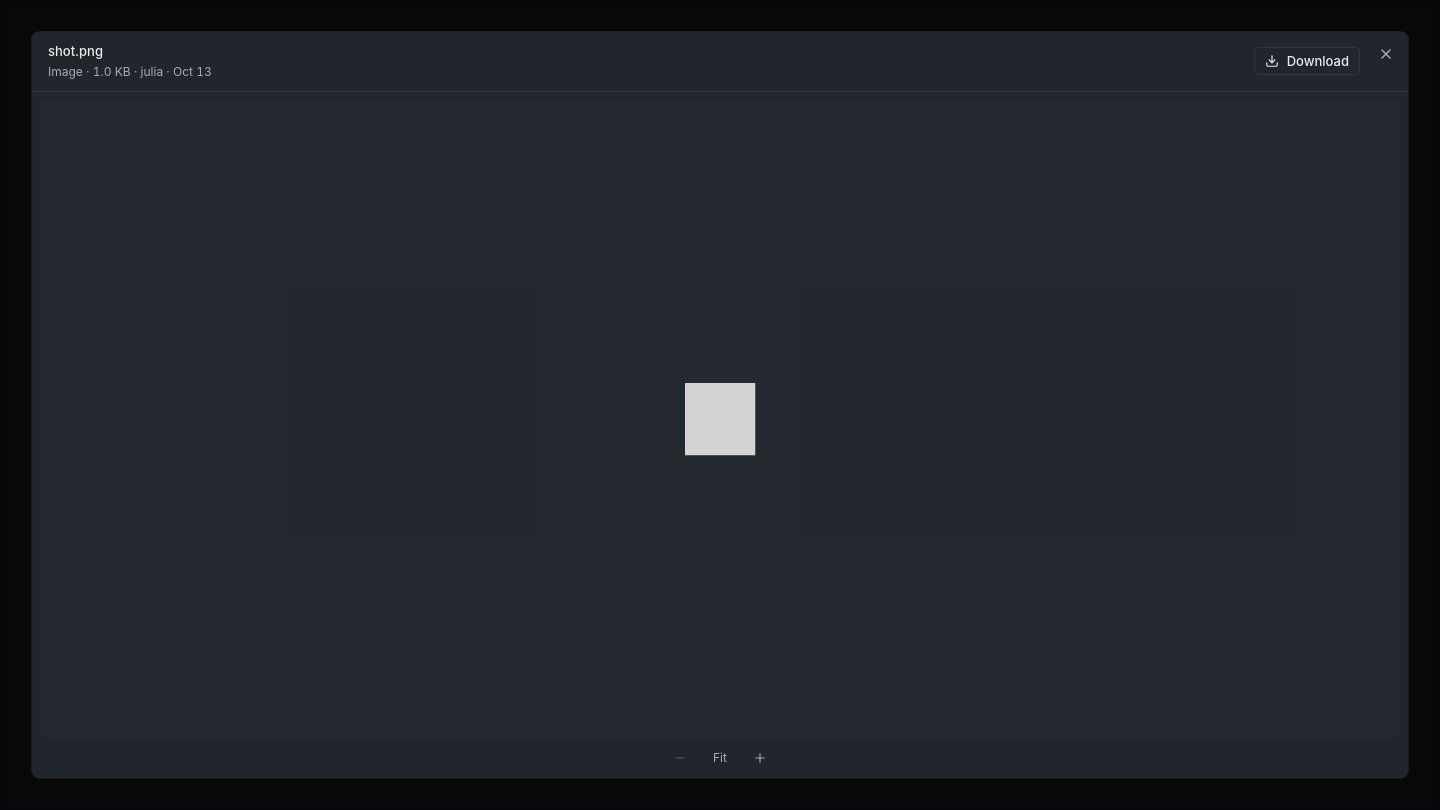
Test: the preview's right-click menu › copies the file's full link, and says so
The image size is (1440, 810).
Right-click the element with test id "zoom-frame" at (720, 419), box left=40, top=100, right=1400, bottom=738
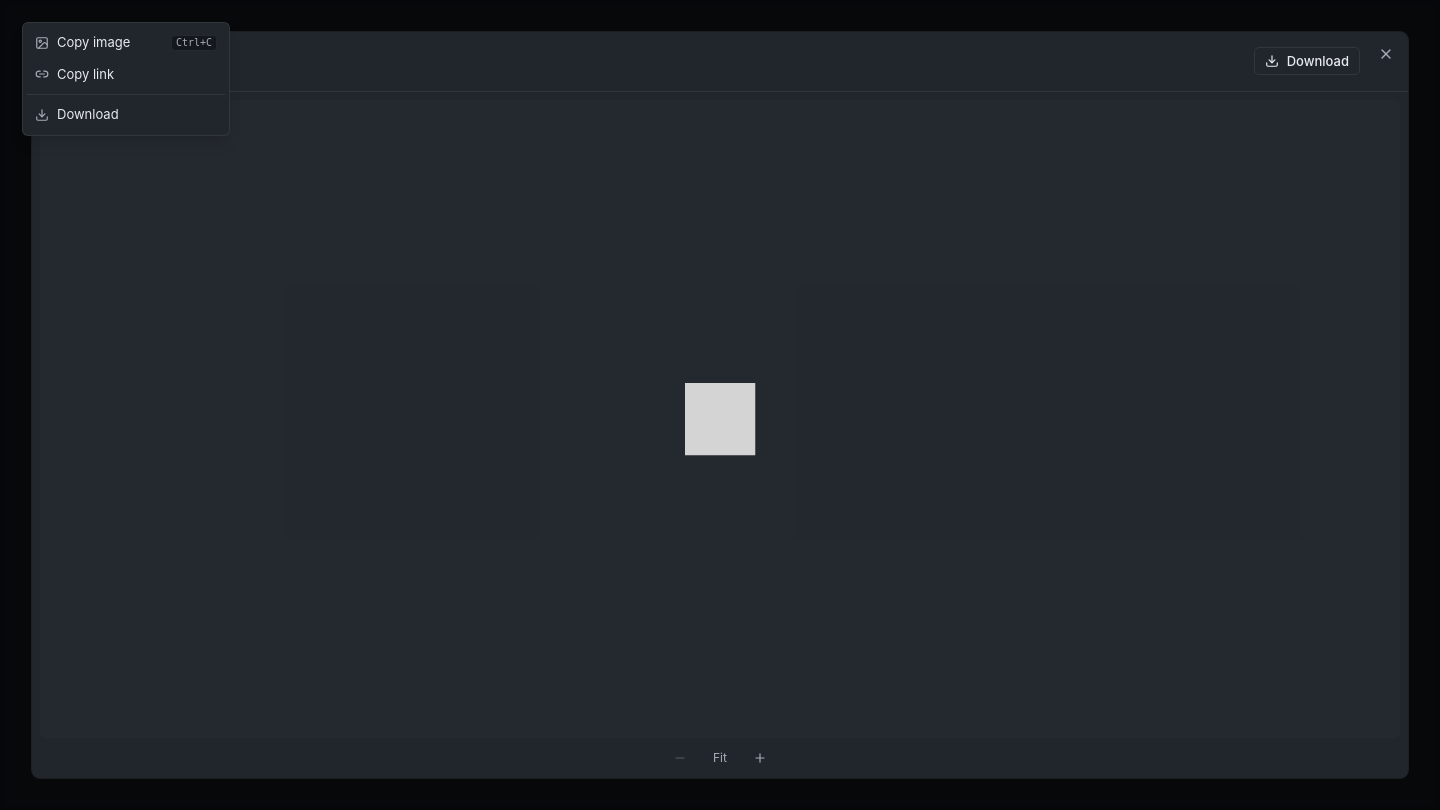
Click the menu item "Copy link" at (75, 74), box left=35, top=66, right=114, bottom=82
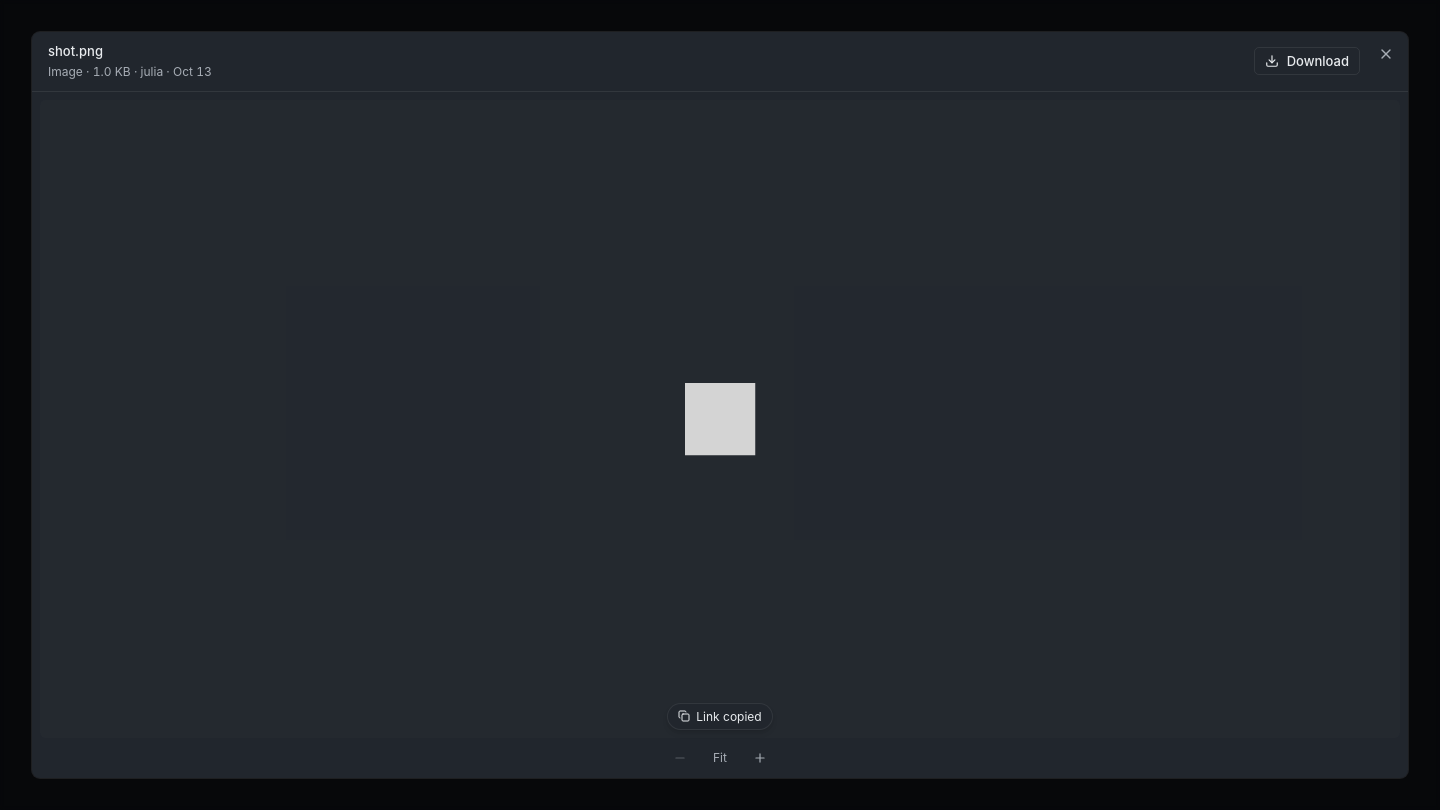
Now the text "Link copied" is shown, box left=667, top=703, right=773, bottom=730
